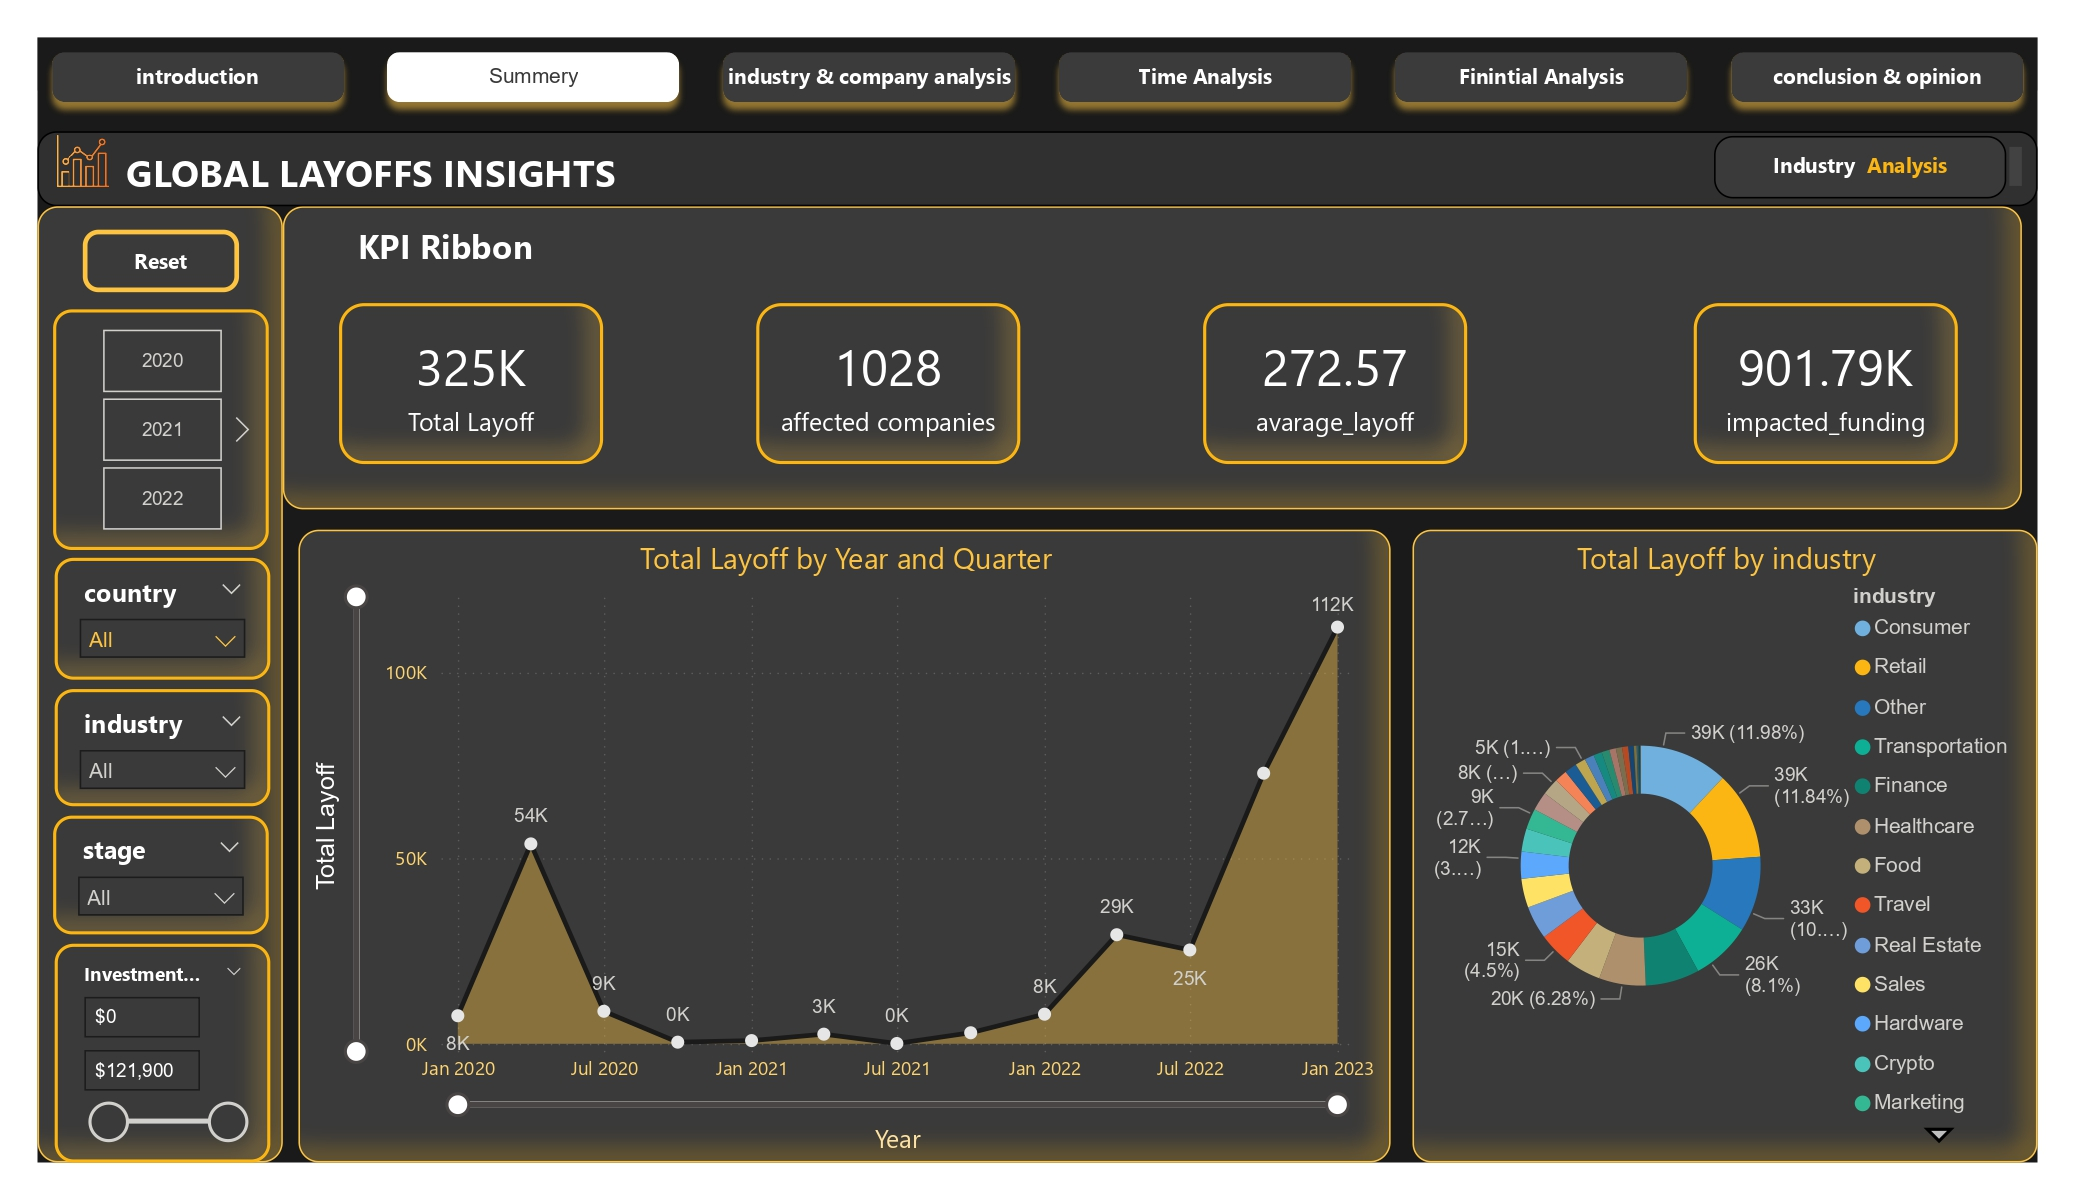

This screenshot's page, from the dashboard's own definition file:
{"tool":"powerbi","page":{"name":"Summery ","canvas":[1280,720],"ordinal":1},"visuals":[{"type":"shape","box":[157.2,108.4,1113,193.3],"z":0},{"type":"textbox","box":[0,59.6,1280,48.8],"z":1000},{"type":"textbox","box":[1073,63.5,187.5,40],"z":2000},{"type":"image","box":[10.7,59.6,36.1,37.1],"z":3000},{"type":"textbox","box":[154.3,114,207.4,39.5],"z":4000},{"type":"card","fields":{"Values":["Key measues.affected companies"]},"box":[460.1,169.7,168.8,103.2],"z":5000},{"type":"card","fields":{"Values":["Key measues.avarage_layoff"]},"box":[746.2,169.7,168.8,103.2],"z":6000},{"type":"areaChart","fields":{"Y":["Key measues.total_lay_off"],"Category":["layoffs.date.Variation.Date Hierarchy.Year","layoffs.date.Variation.Date Hierarchy.Quarter"]},"box":[167,315.4,699.1,404.2],"z":7000},{"type":"donutChart","fields":{"Category":["layoffs.industry"],"Y":["Sum(layoffs.total_laid_off)"]},"box":[879.7,315.4,400.3,404.2],"z":8000},{"type":"shape","box":[0,108.4,157.2,611.2],"z":9000},{"type":"card","fields":{"Values":["Key measues.impacted_funding"]},"box":[1060.1,169.7,168.8,103.2],"z":10000},{"type":"card","fields":{"Values":["Sum(layoffs.total_laid_off)"]},"box":[192.9,169.7,168.8,103.2],"z":11000},{"type":"slicer","fields":{"Values":["layoffs.date.Variation.Date Hierarchy.Year"]},"box":[10,174,138,154],"z":12000},{"type":"slicer","fields":{"Values":["layoffs.country"]},"box":[11,333,138,78],"z":13000},{"type":"slicer","fields":{"Values":["layoffs.industry"]},"box":[11,417,138,75],"z":14000},{"type":"slicer","fields":{"Values":["layoffs.stage"]},"box":[10,498,138,76],"z":15000},{"type":"slicer","fields":{"Values":["layoffs.funds_raised_millions"]},"box":[10.7,580,138.6,139.6],"z":16000},{"type":"pageNavigator","box":[0,0,1280,49.8],"z":17000},{"type":"actionButton","box":[29,123,100,40],"z":18000}]}

Visuals, with their boxes in screenshot pixels (x1, y1, x2, y2):
shape: [left=283, top=207, right=2022, bottom=509]
textbox: [left=38, top=131, right=2038, bottom=207]
textbox: [left=1714, top=137, right=2007, bottom=199]
image: [left=54, top=131, right=111, bottom=189]
textbox: [left=279, top=216, right=603, bottom=277]
card - Key measues.affected companies: [left=756, top=303, right=1020, bottom=464]
card - Key measues.avarage_layoff: [left=1203, top=303, right=1467, bottom=464]
areaChart - Key measues.total_lay_off x layoffs.date.Variation.Date Hierarchy.Year: [left=298, top=530, right=1391, bottom=1162]
donutChart - layoffs.industry x Sum(layoffs.total_laid_off): [left=1412, top=530, right=2038, bottom=1162]
shape: [left=38, top=207, right=283, bottom=1162]
card - Key measues.impacted_funding: [left=1694, top=303, right=1958, bottom=464]
card - Sum(layoffs.total_laid_off): [left=339, top=303, right=603, bottom=464]
slicer - layoffs.date.Variation.Date Hierarchy.Year: [left=53, top=309, right=269, bottom=550]
slicer - layoffs.country: [left=55, top=558, right=270, bottom=680]
slicer - layoffs.industry: [left=55, top=689, right=270, bottom=806]
slicer - layoffs.stage: [left=53, top=816, right=269, bottom=934]
slicer - layoffs.funds_raised_millions: [left=54, top=944, right=271, bottom=1162]
pageNavigator: [left=38, top=38, right=2038, bottom=115]
actionButton: [left=83, top=230, right=239, bottom=292]
